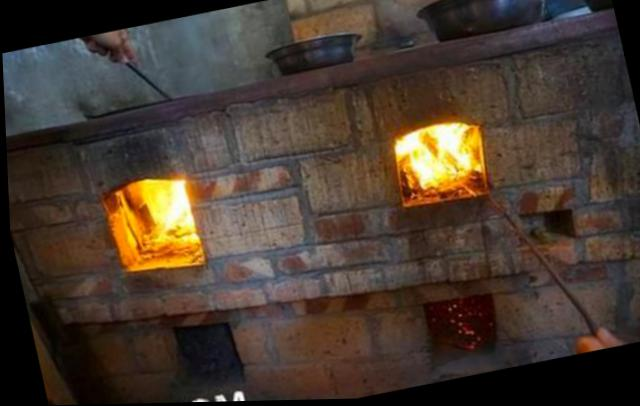fire: (103, 172, 203, 272), (389, 119, 490, 200)
